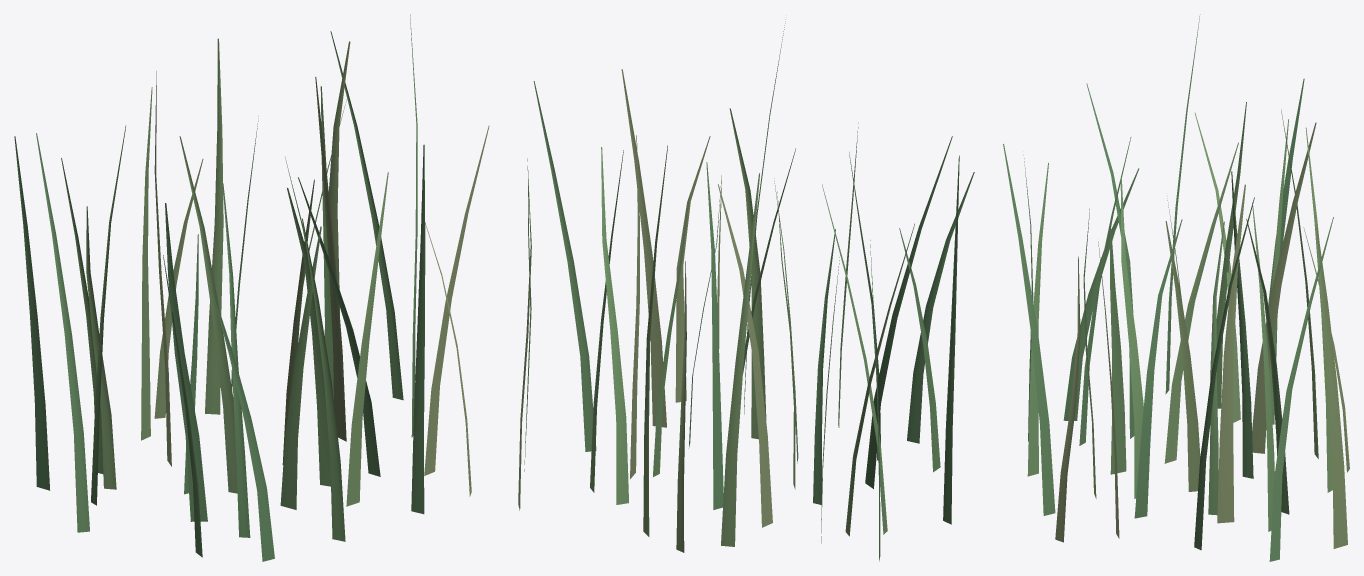
Rendered from tropical_seagrass_dense_quest3.glb.
3 renders of one model, left to right at view 1: azimuth 30°, elevation 25°; view 2: azimuth 150°, elevation 25°; view 3: azimuth 270°, elevation 25°, orthographic. The views are drawn at different scales.
Parts seen in each view (by area): view 1: SeagrassPatch_Root; view 2: SeagrassPatch_Root; view 3: SeagrassPatch_Root.
Part boxes in pixels (x1,y1,x2,y2): SeagrassPatch_Root: [14, 14, 489, 561]; SeagrassPatch_Root: [518, 19, 974, 561]; SeagrassPatch_Root: [1003, 14, 1349, 561].
Bounding box in the file's own units: 1.27 × 1.18 × 1.01.
